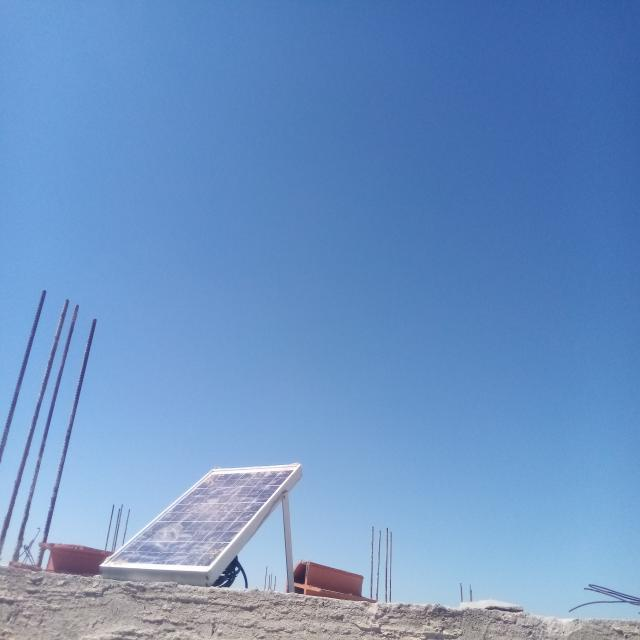faulty: (101, 465, 301, 574)
